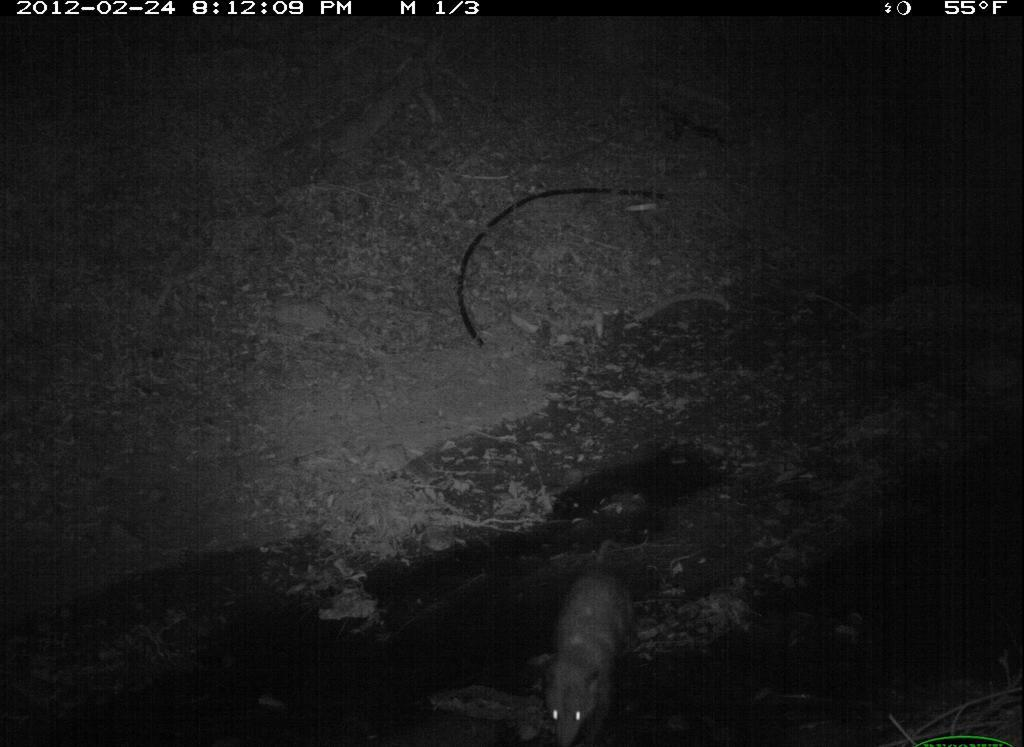opossum: (537, 529, 634, 747)
